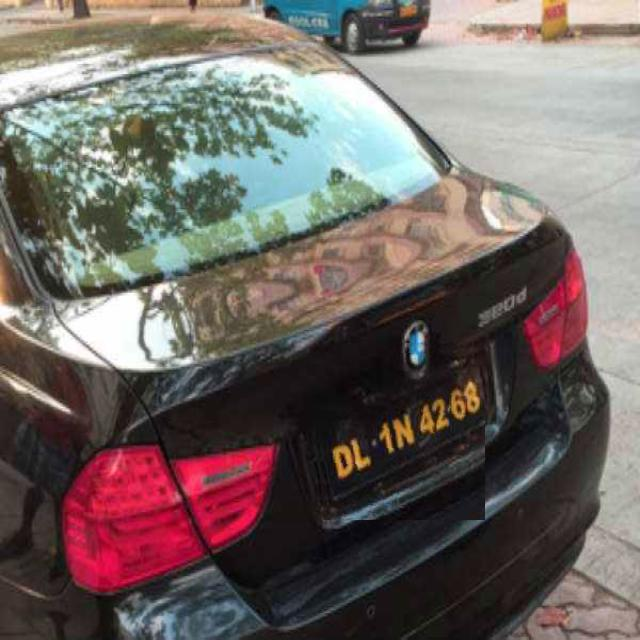licence: (314, 336, 485, 520)
